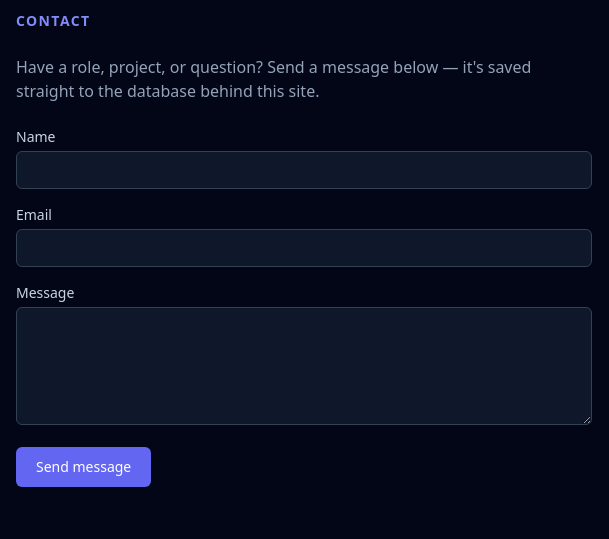
Scenario: Contact form › shows an error message when the request fails
The width and height of the screenshot is (609, 539).
Type "Ada" into the field labelled "Name". click: (304,170)
box: [16, 151, 592, 189]
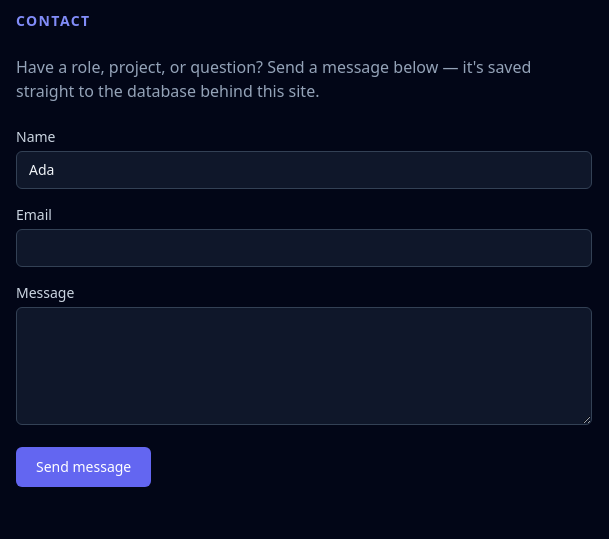
Type "ada@example.com" into the field labelled "Email". click: (304,248)
box: [16, 229, 592, 267]
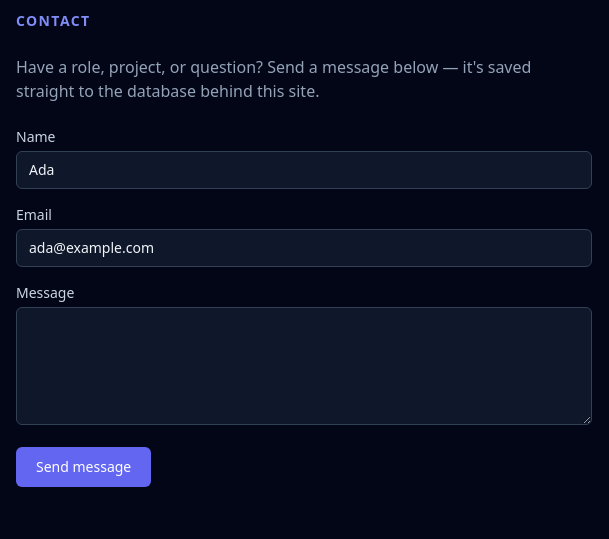
Type "Hi" into the text box labelled "Message". click: (304,366)
box: [16, 307, 592, 425]
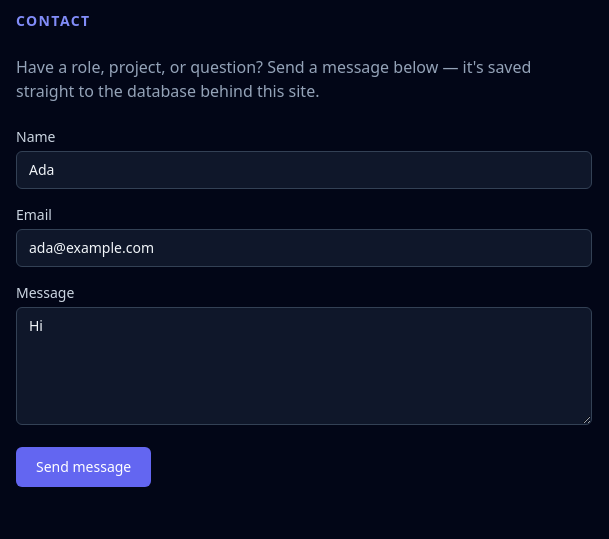
Click the button "Send message". click: (84,467)
box: [16, 447, 151, 487]
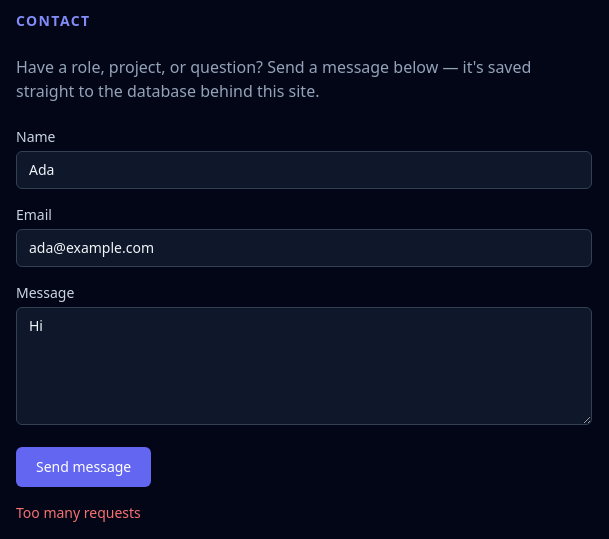
Check: the text "Too many requests" is shown, box [16, 503, 141, 522]
